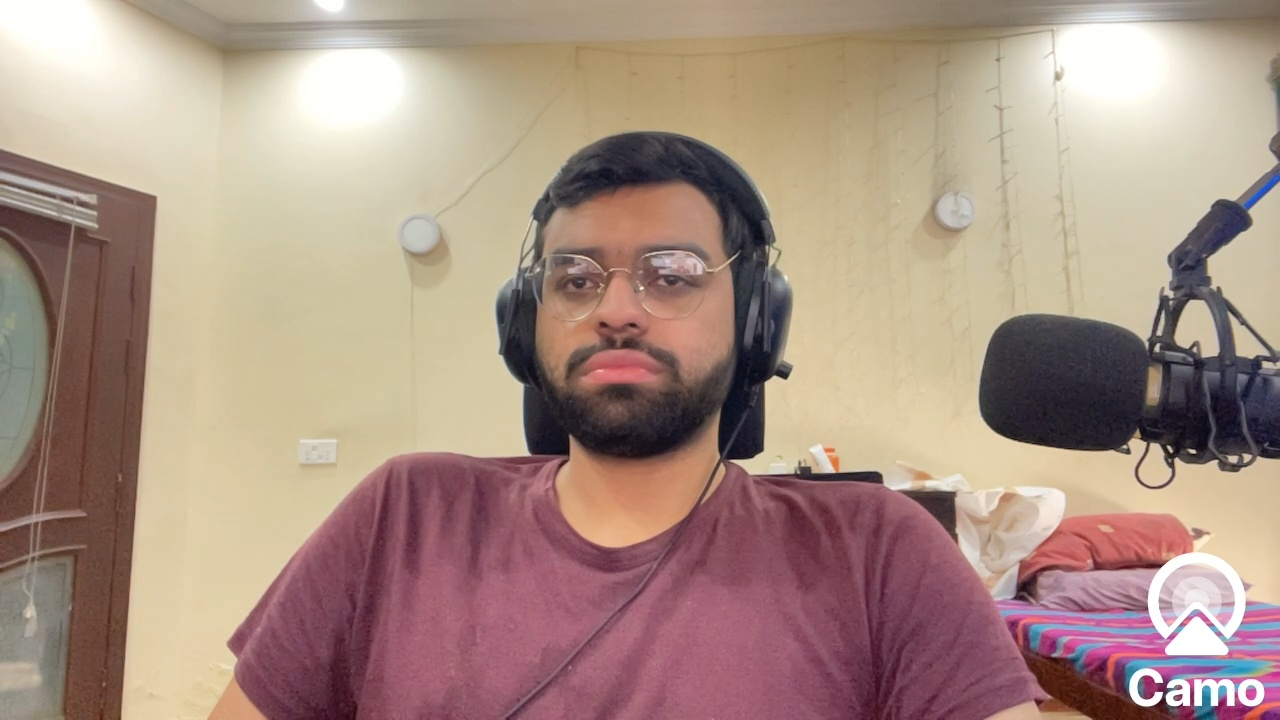neutral: (528, 190, 738, 465)
